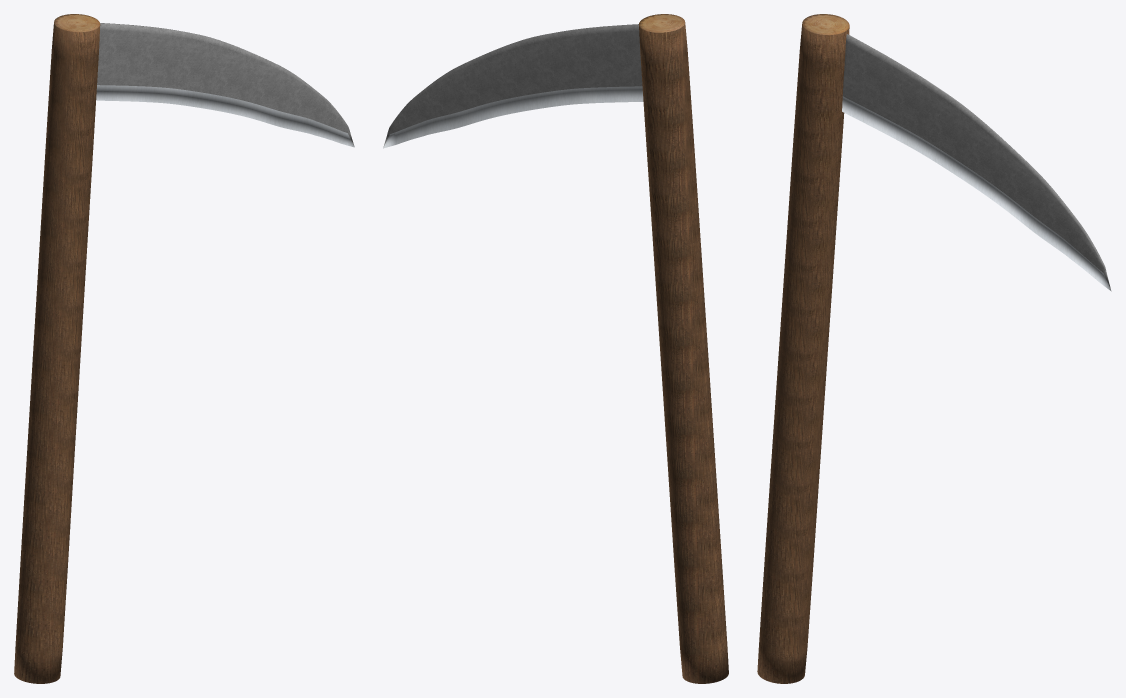
Rendered from LongSickle.fbx.
3 views of the same model, side by side, from view 1: azimuth 30°, elevation 25°; view 2: azimuth 150°, elevation 25°; view 3: azimuth 330°, elevation 25° (orthographic). The views are drawn at different scales.
Parts seen in each view (by area): view 1: Cylinder001, Line001; view 2: Cylinder001, Line001; view 3: Cylinder001, Line001.
Part boxes in pixels (bbox=[...]): Cylinder001: bbox=[14, 14, 100, 683]; Line001: bbox=[96, 23, 354, 147]; Cylinder001: bbox=[639, 14, 728, 683]; Line001: bbox=[383, 24, 643, 148]; Cylinder001: bbox=[757, 14, 849, 683]; Line001: bbox=[842, 34, 1111, 291].
Size of the model in its own units: 1304 by 2360 by 169.
Materials: 4 (4 with a texture image).
